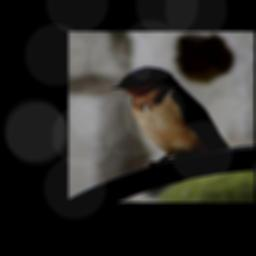Swallow: (108, 65, 232, 170)
